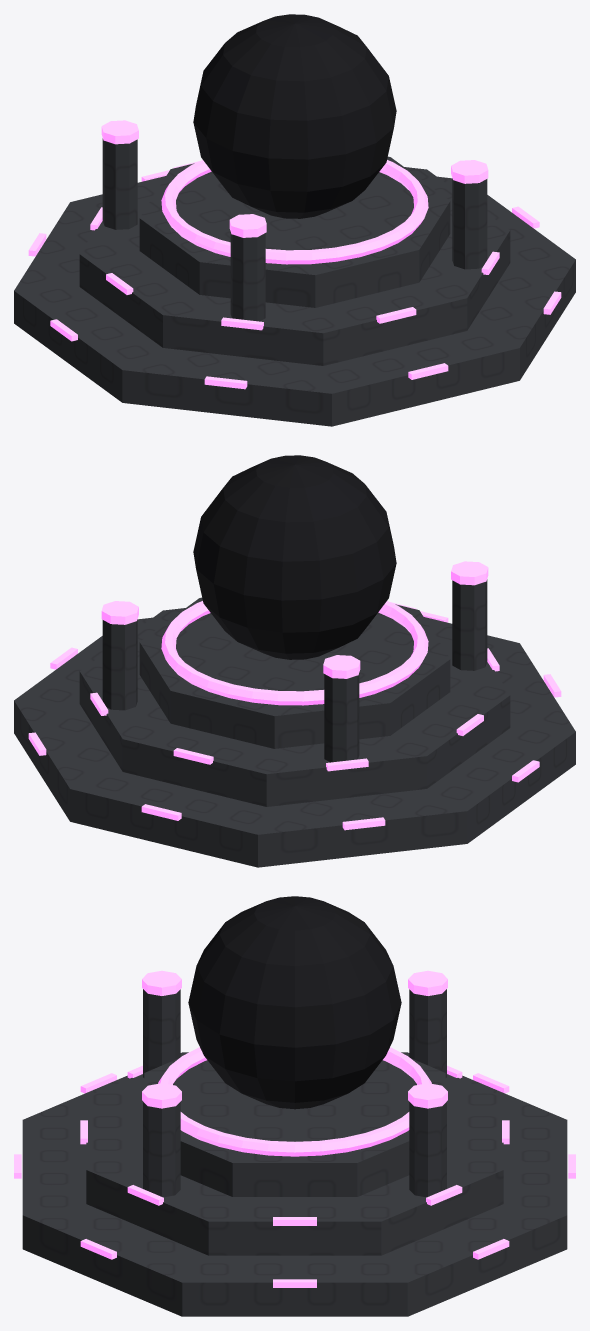
Rendered from Plante_Trou_Noir.glb.
The picture shows the model from 3 angles, top to bottom: view 1: azimuth 30°, elevation 25°; view 2: azimuth 150°, elevation 25°; view 3: azimuth 270°, elevation 25°; orthographic projection. The views are drawn at different scales.
Parts seen in each view (by area): view 1: Plante_Trou_Noir; view 2: Plante_Trou_Noir; view 3: Plante_Trou_Noir.
Part boxes in pixels (x1=…): Plante_Trou_Noir: x1=14, y1=14, x2=575, y2=426; Plante_Trou_Noir: x1=14, y1=455, x2=575, y2=867; Plante_Trou_Noir: x1=14, y1=896, x2=575, y2=1316.
Size of the model in its own units: 8.96 by 5.2 by 8.96.
Materials: 3 (1 with a texture image).
